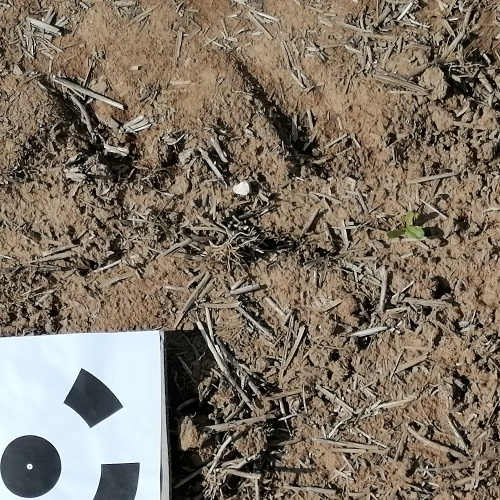beet: (385, 210, 425, 241)
